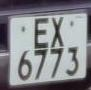3: (65, 43, 82, 81)
6: (17, 49, 35, 85)
7: (47, 46, 66, 82), (32, 48, 50, 83)
E: (32, 15, 51, 51)
X: (49, 15, 68, 51)
